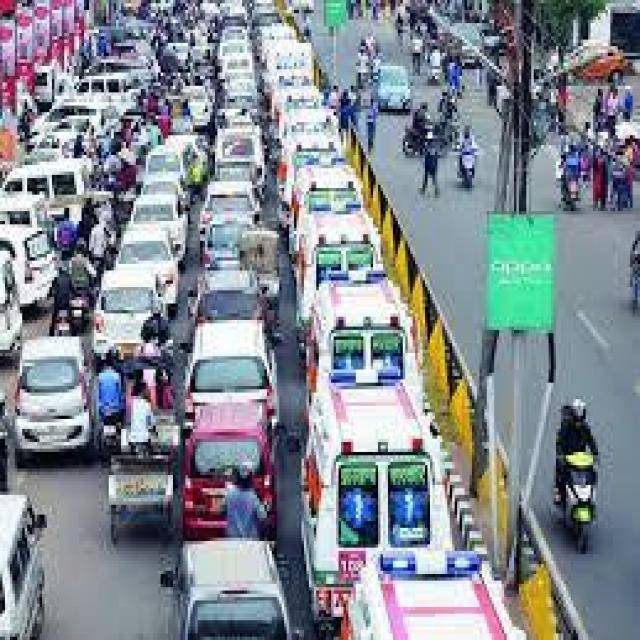ambulance: (312, 401, 439, 573), (274, 31, 346, 202), (318, 274, 416, 392), (338, 410, 444, 513), (312, 212, 375, 265)
